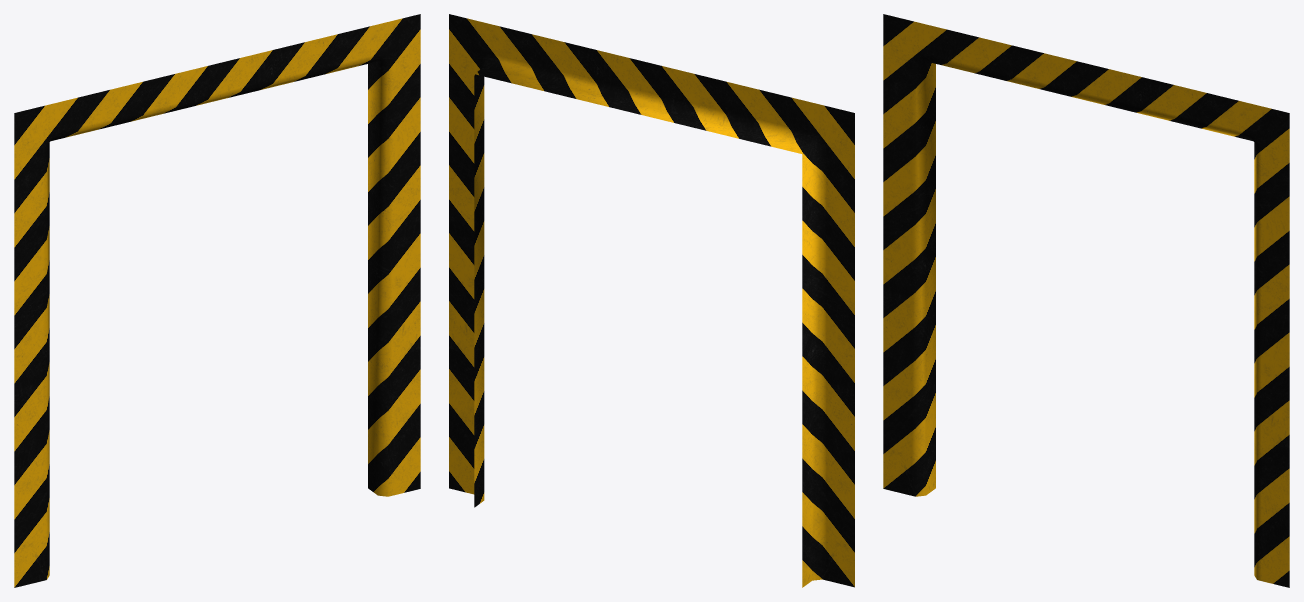
The model's file is signage_shallowpit_blastdoor_frame_c2.fbx.
The picture shows the model from 3 angles, left to right: view 1: azimuth 30°, elevation 25°; view 2: azimuth 150°, elevation 25°; view 3: azimuth 330°, elevation 25°; orthographic projection.
Parts seen in each view (by area): view 1: signage_shallowpit_blastdoor_frame_c2; view 2: signage_shallowpit_blastdoor_frame_c2; view 3: signage_shallowpit_blastdoor_frame_c2.
Boxes of the visible parts, x1,y1,x2,y2 form: signage_shallowpit_blastdoor_frame_c2: [14, 14, 420, 587]; signage_shallowpit_blastdoor_frame_c2: [449, 14, 854, 587]; signage_shallowpit_blastdoor_frame_c2: [883, 14, 1289, 587].
Bounding box in the file's own units: 0.1397 × 2.39 × 2.67.
